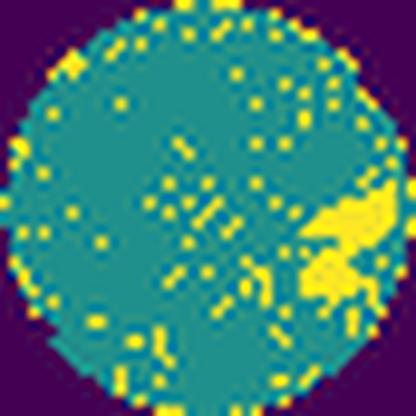Loc: (295, 178, 400, 313)
